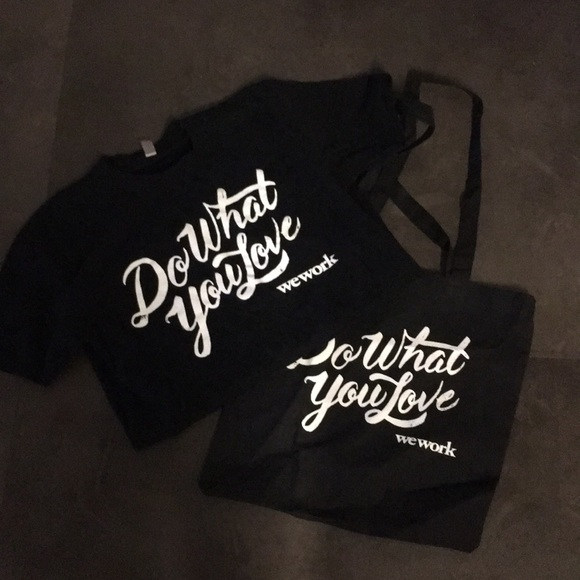wework: (393, 429, 458, 461)
